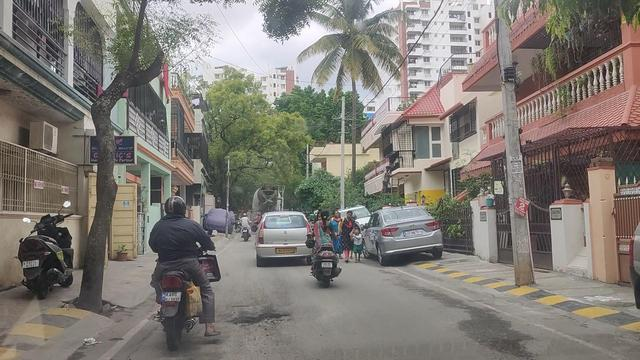LMV: (150, 194, 213, 348), (259, 210, 317, 265), (314, 203, 345, 294)
RoadDamages: (231, 302, 292, 332)
